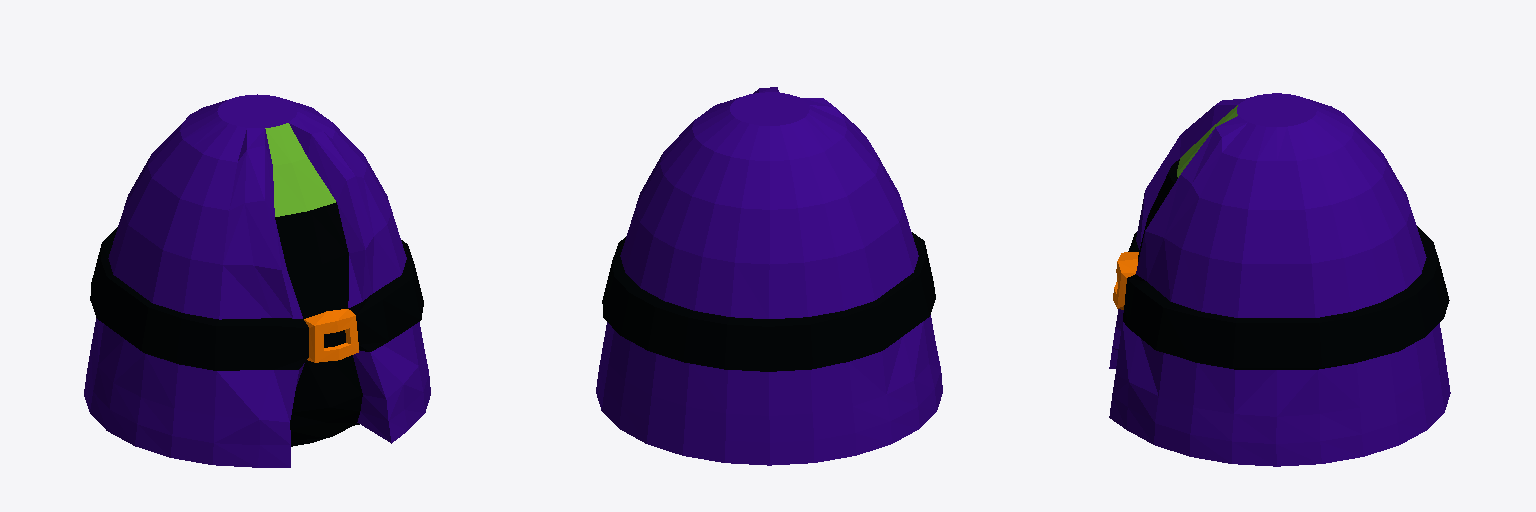
File: character_witch.obj
The picture shows the model from 3 angles: view 1: azimuth 30°, elevation 25°; view 2: azimuth 150°, elevation 25°; view 3: azimuth 270°, elevation 25°; orthographic projection.
Visible parts, largest first — view 1: character_witch_Cube.5268; view 2: character_witch_Cube.5268; view 3: character_witch_Cube.5268.
Boxes of the visible parts, x1,y1,x2,y2 form: character_witch_Cube.5268: [84, 94, 430, 467]; character_witch_Cube.5268: [596, 87, 942, 465]; character_witch_Cube.5268: [1109, 93, 1450, 466].
Bounding box in the file's own units: 0.7837 × 0.7256 × 0.7703.